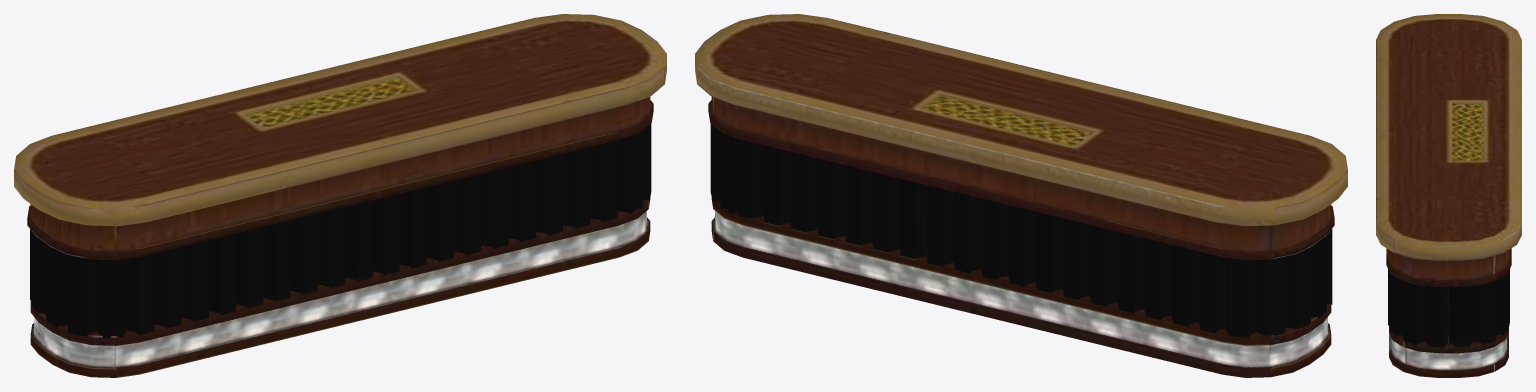
File: reception-desk.gltf
The picture shows the model from 3 angles, left to right: view 1: azimuth 30°, elevation 25°; view 2: azimuth 150°, elevation 25°; view 3: azimuth 270°, elevation 25°; orthographic projection. The views are drawn at different scales.
Visible parts, largest first — view 1: Counter.001_10; view 2: Counter.001_10; view 3: Counter.001_10.
Part boxes in pixels (bbox=[...]): Counter.001_10: bbox=[14, 14, 666, 377]; Counter.001_10: bbox=[695, 14, 1347, 377]; Counter.001_10: bbox=[1376, 14, 1521, 377].
Size of the model in its own units: 4.04 by 1.1 by 1.07.
1 material, 1 textured.
